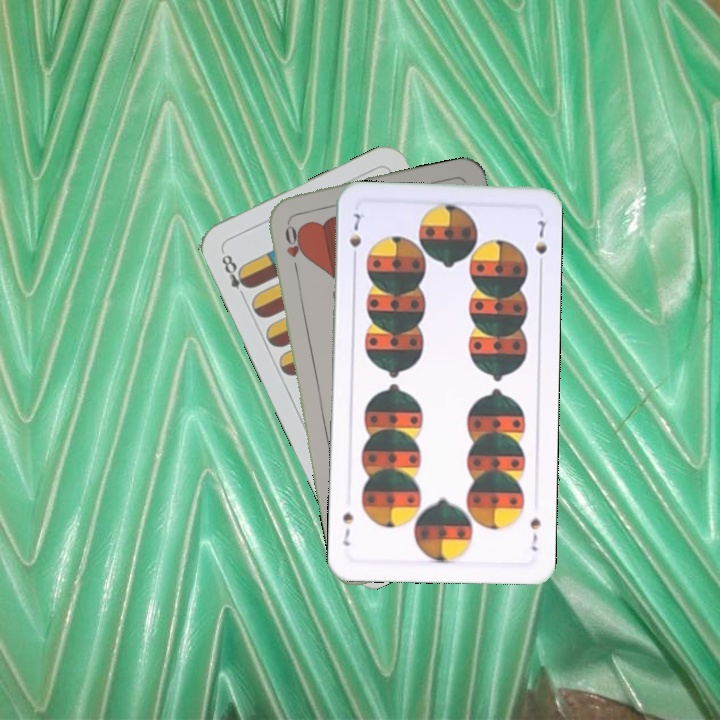E8: (217, 250, 254, 302)
HO: (281, 217, 303, 276)
S7: (345, 209, 364, 265), (526, 512, 543, 553)
